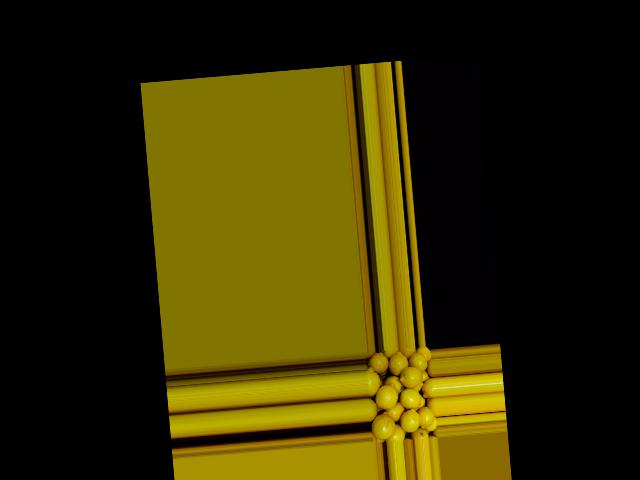lemon: (365, 364, 380, 396)
